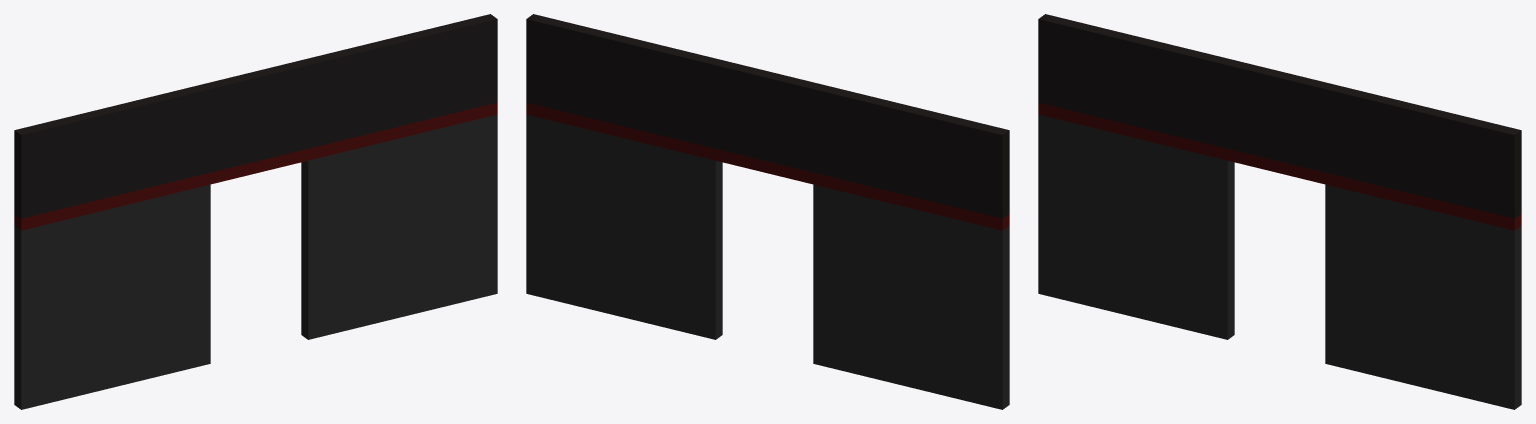
The model's file is SM_wall_stc_02.fbx.
3 views of the same model, side by side, from view 1: azimuth 30°, elevation 25°; view 2: azimuth 150°, elevation 25°; view 3: azimuth 330°, elevation 25° (orthographic).
Parts seen in each view (by area): view 1: wall_stc_02; view 2: wall_stc_02; view 3: wall_stc_02.
Part boxes in pixels (x1,y1,x2,y2): wall_stc_02: (14, 14, 497, 409); wall_stc_02: (526, 14, 1009, 409); wall_stc_02: (1038, 14, 1521, 409).
Size of the model in its own units: 955 by 526 by 24.
